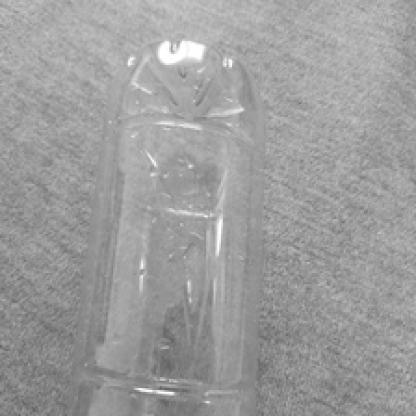plastic_bottles: (70, 33, 279, 416)
